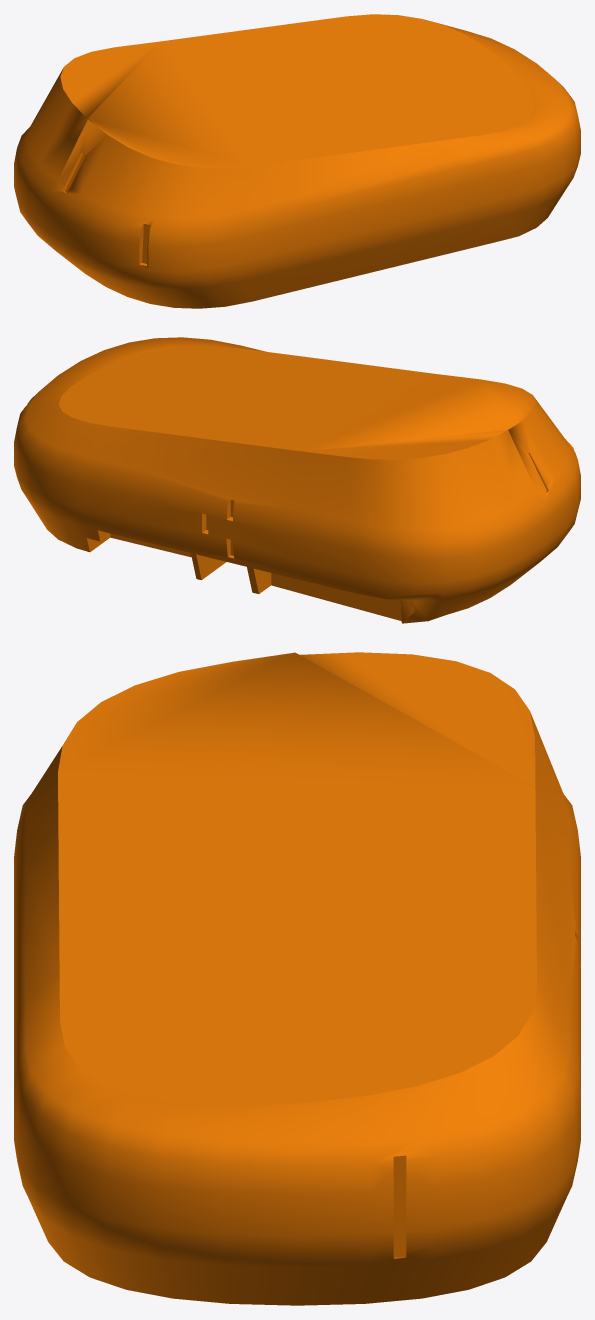
File: smitsborg.fbx
3 views of the same model, one above another, from view 1: azimuth 30°, elevation 25°; view 2: azimuth 150°, elevation 25°; view 3: azimuth 270°, elevation 25° (orthographic). The views are drawn at different scales.
Visible parts, largest first — view 1: Box002; view 2: Box002; view 3: Box002.
Boxes of the visible parts, left/top/right/bottom form: Box002: left=14, top=14, right=580, bottom=308; Box002: left=14, top=337, right=580, bottom=623; Box002: left=14, top=652, right=580, bottom=1305.
Size of the model in its own units: 318 by 96.63 by 175.
